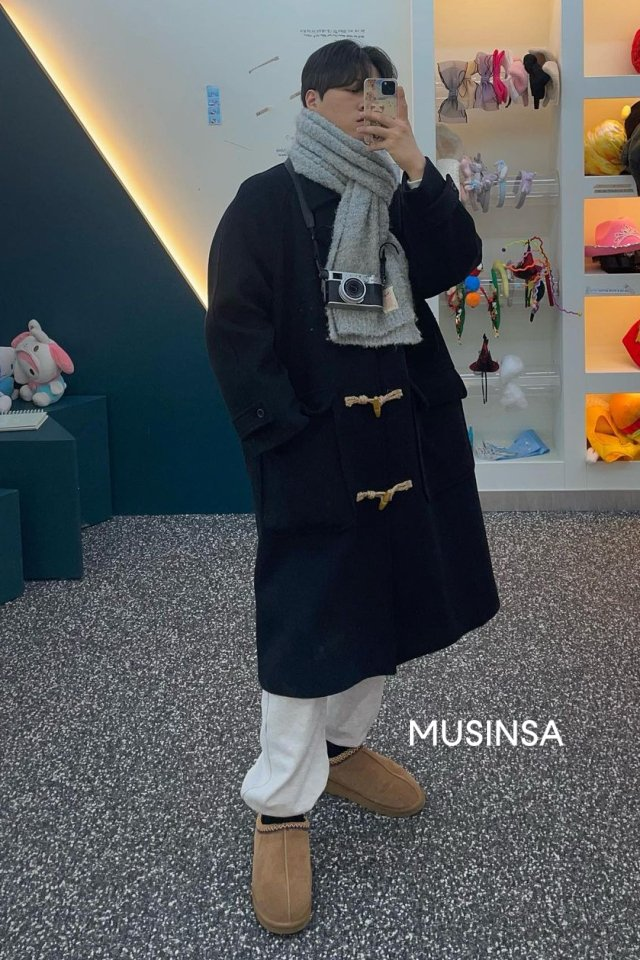Coat: (190, 155, 501, 697)
Muffler: (289, 109, 418, 349)
Shoes: (244, 741, 432, 936)
Training pants: (236, 676, 405, 818)
